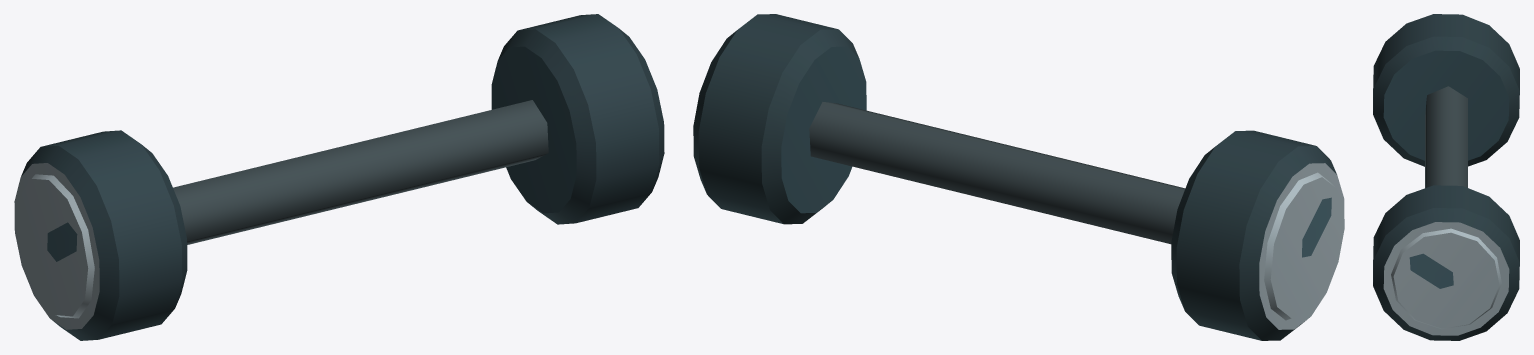
The model's file is Delivery_drone_002_wheels_002.fbx.
3 renders of one model, left to right at view 1: azimuth 30°, elevation 25°; view 2: azimuth 150°, elevation 25°; view 3: azimuth 270°, elevation 25°, orthographic. The views are drawn at different scales.
Visible parts, largest first — view 1: Delivery_drone_002_wheels_002; view 2: Delivery_drone_002_wheels_002; view 3: Delivery_drone_002_wheels_002.
Boxes of the visible parts, x1,y1,x2,y2 form: Delivery_drone_002_wheels_002: (14, 14, 664, 340); Delivery_drone_002_wheels_002: (693, 14, 1344, 340); Delivery_drone_002_wheels_002: (1373, 14, 1519, 340).
Bounding box in the file's own units: 69.12 × 20.78 × 20.78.
